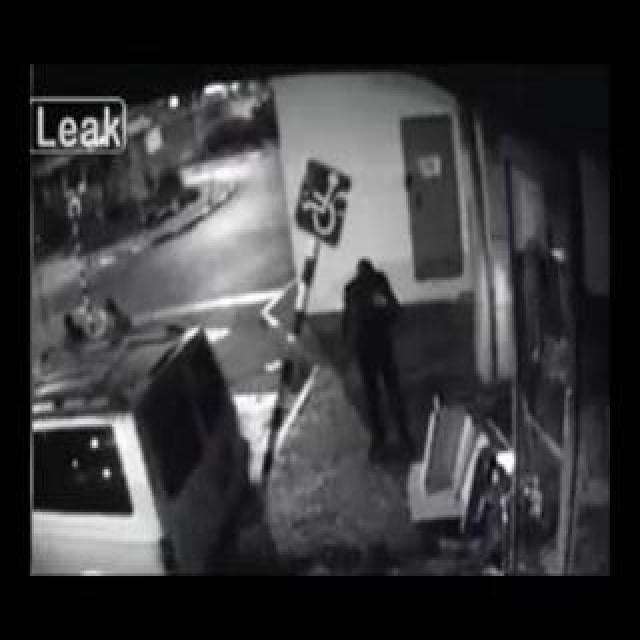thief: (322, 242, 396, 384)
